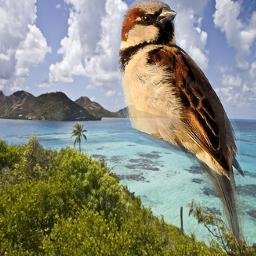Swallow: (116, 0, 244, 246)
